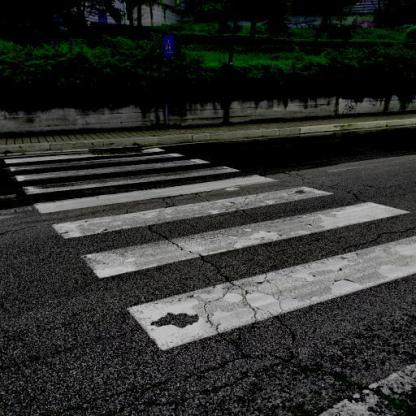crosswalk: (50, 182, 415, 284)
